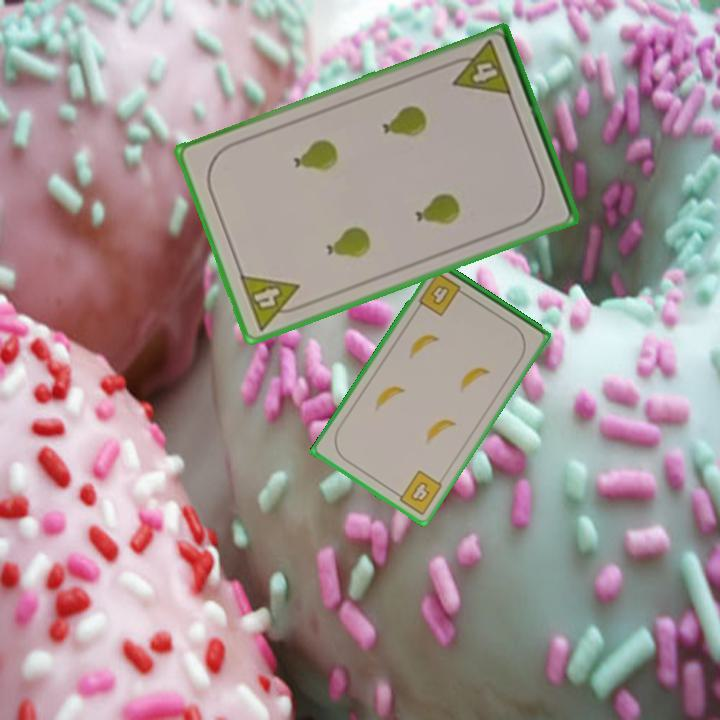4b: (390, 467, 445, 518), (415, 269, 469, 319)
4p: (443, 37, 515, 100), (236, 271, 309, 333)
